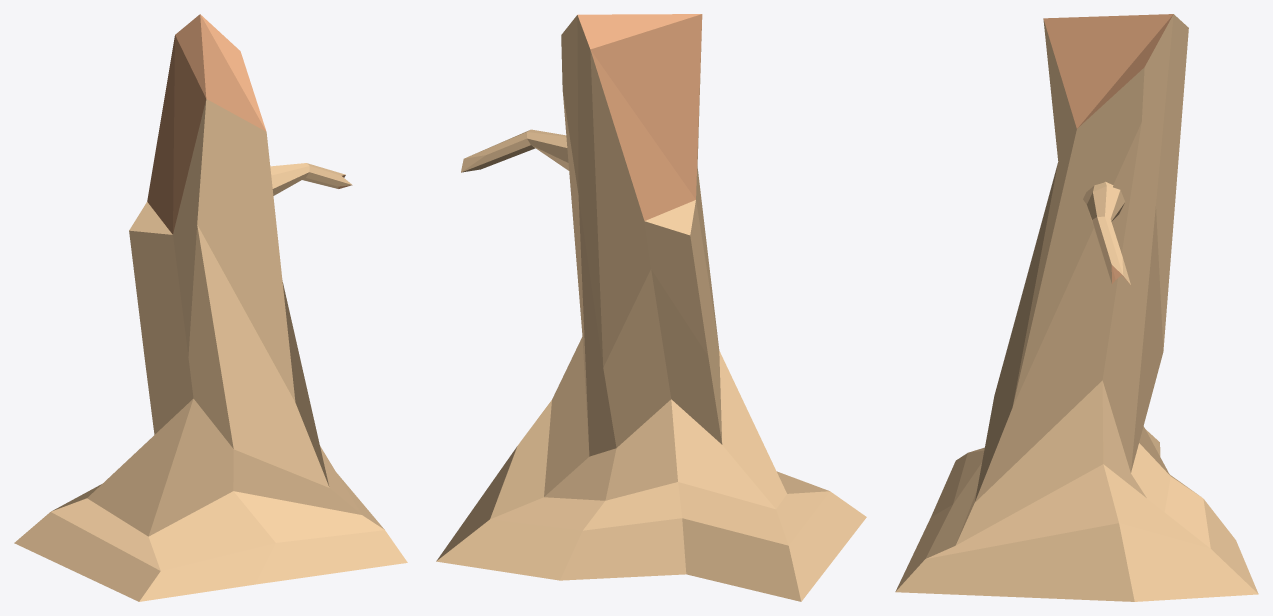
Rendered from Dead Tree 5.fbx.
3 views of the same model, side by side, from view 1: azimuth 30°, elevation 25°; view 2: azimuth 150°, elevation 25°; view 3: azimuth 270°, elevation 25° (orthographic). The views are drawn at different scales.
Visible parts, largest first — view 1: Dead Tree 5; view 2: Dead Tree 5; view 3: Dead Tree 5.
Part boxes in pixels (box(x1,y1,x2,y2)): Dead Tree 5: box(14, 14, 407, 601); Dead Tree 5: box(436, 14, 866, 601); Dead Tree 5: box(895, 14, 1258, 601).
Size of the model in its own units: 59.14 by 85.11 by 52.61.
